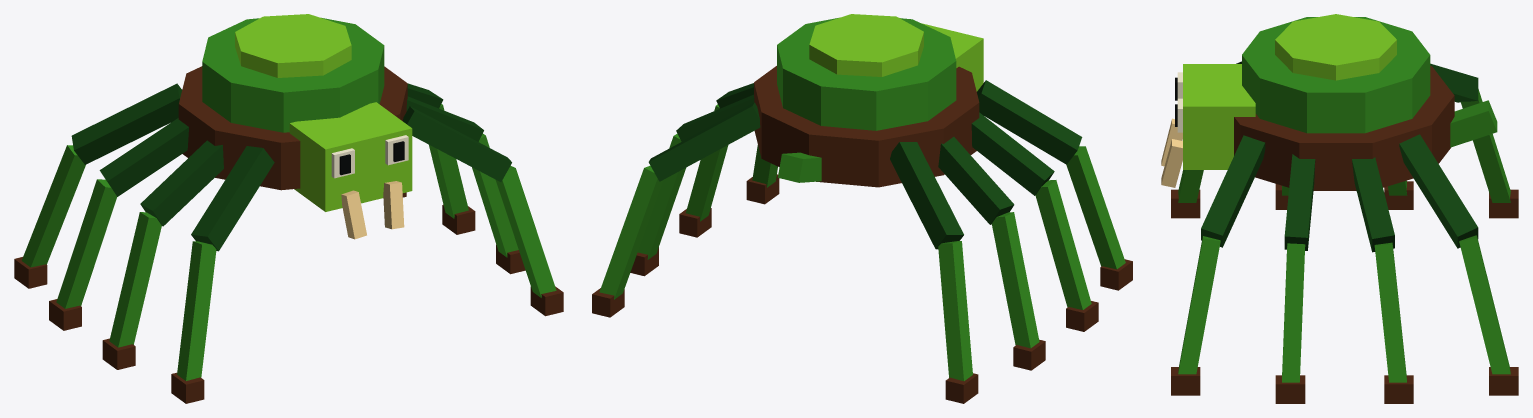
The model's file is Tartaragno_Mini.glb.
3 views of the same model, side by side, from view 1: azimuth 30°, elevation 25°; view 2: azimuth 150°, elevation 25°; view 3: azimuth 270°, elevation 25° (orthographic). The views are drawn at different scales.
Parts seen in each view (by area): view 1: Tartaragno_Mini; view 2: Tartaragno_Mini; view 3: Tartaragno_Mini.
Boxes of the visible parts, x1,y1,x2,y2 form: Tartaragno_Mini: (14,14,563,403); Tartaragno_Mini: (592,14,1132,403); Tartaragno_Mini: (1161,14,1518,403).
Bounding box in the file's own units: 3.32 × 2 × 2.47.
1 material, 1 textured.
